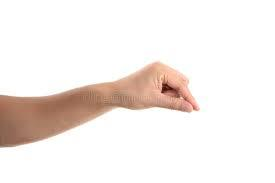Pinched-Fingers: (95, 59, 203, 123)
